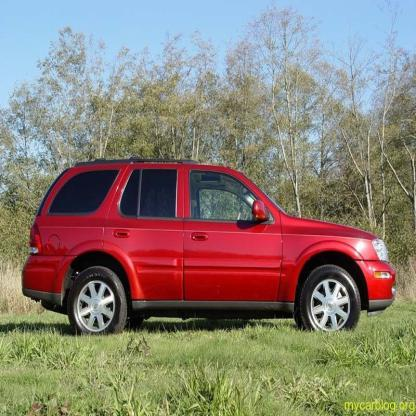Vehicle: (21, 156, 399, 340)
